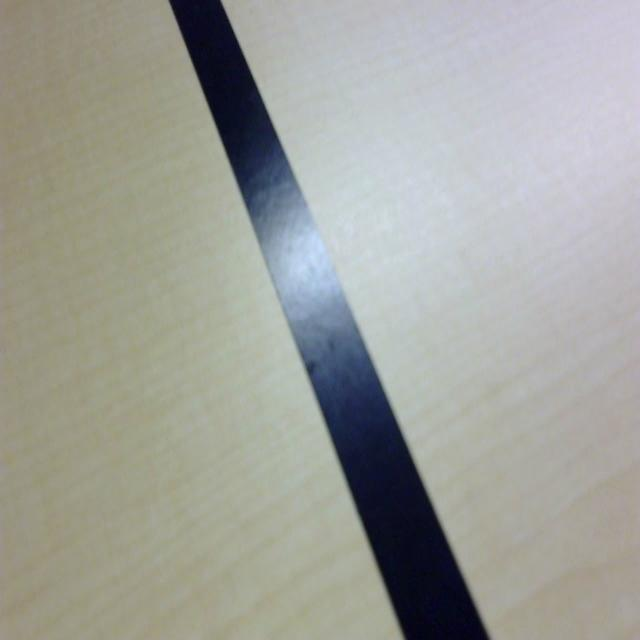tape: (153, 0, 508, 640)
